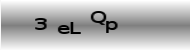3: (34, 17, 48, 30)
L: (69, 20, 82, 35)
Q: (89, 9, 106, 25)
e: (55, 23, 70, 34)
p: (105, 20, 118, 33)
